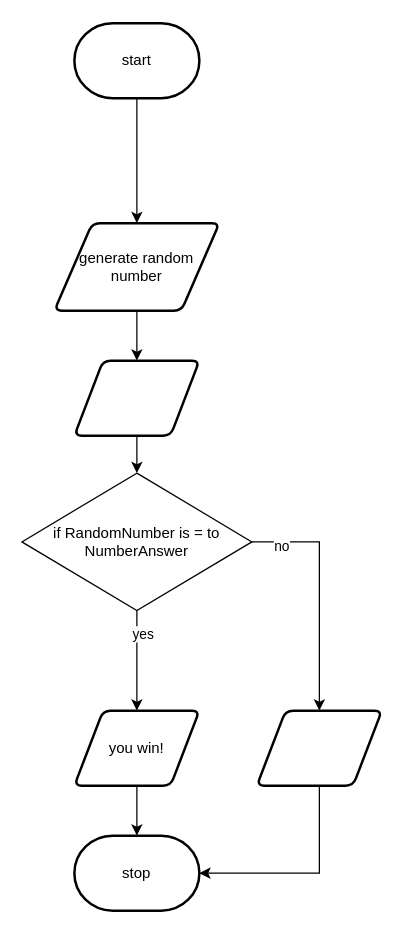
Image size: 405x933. Some labels were removed from this diagram. Each missing label, with the centre of its shape:
"get guessed number" goes at (x=136, y=397).
"you lose :(" goes at (x=318, y=747).
